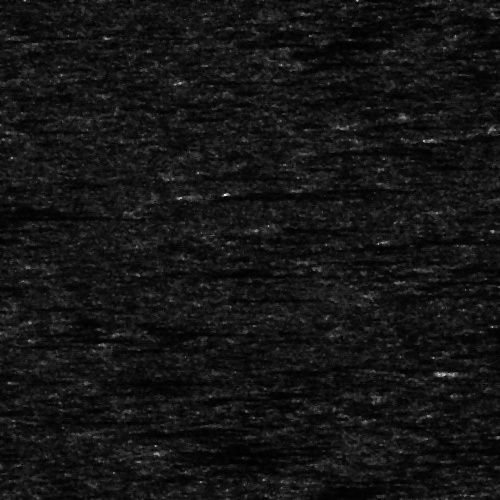object: (148, 70, 221, 91), (410, 118, 500, 131), (246, 222, 319, 231), (414, 367, 500, 374), (115, 324, 168, 335), (132, 445, 195, 454), (387, 274, 460, 281), (170, 172, 211, 181), (414, 262, 455, 269), (89, 429, 130, 434), (316, 146, 347, 151), (272, 58, 303, 63), (223, 188, 234, 201), (381, 238, 412, 241)
shadow: (185, 70, 291, 91), (228, 188, 388, 201), (164, 445, 318, 454), (0, 209, 116, 220), (142, 324, 246, 335), (283, 222, 392, 231), (191, 172, 297, 181), (331, 146, 444, 151), (288, 58, 398, 63), (424, 274, 500, 281), (109, 429, 211, 434), (435, 262, 500, 269), (397, 238, 500, 241), (466, 367, 500, 374), (0, 374, 28, 381)
